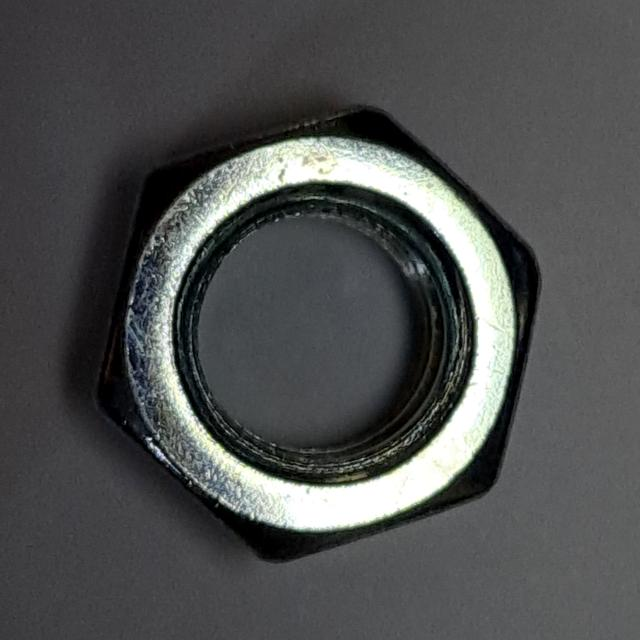Excellent: (81, 92, 555, 575)
